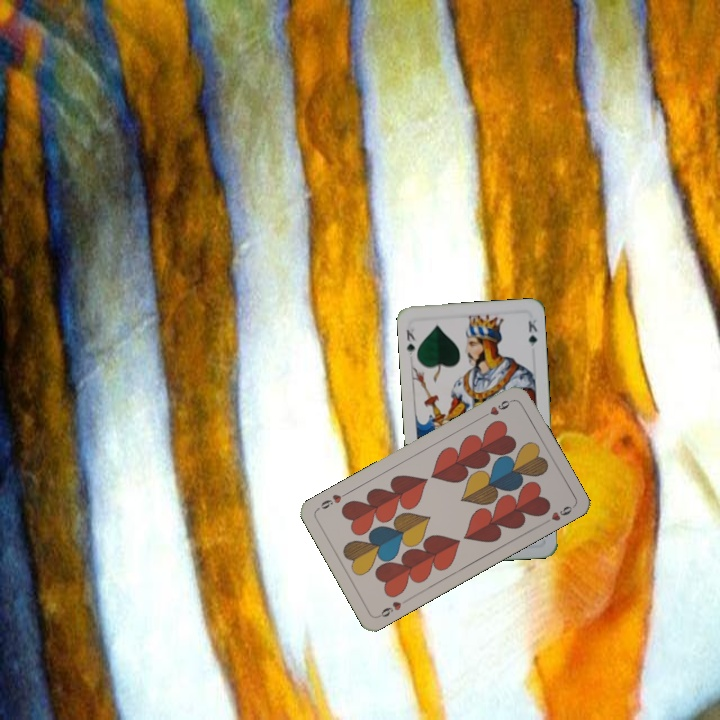GK: (402, 320, 419, 357)
H9: (374, 595, 411, 620), (478, 396, 515, 421)
